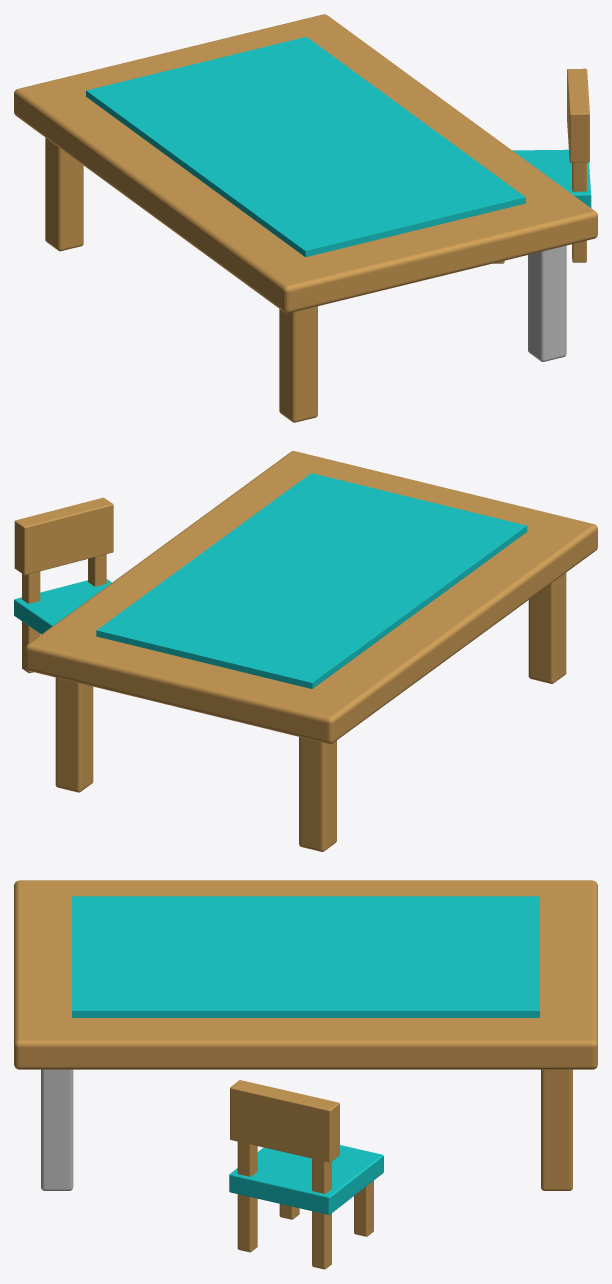
File: Desk&Chair.obj
3 views of the same model, one above another, from view 1: azimuth 30°, elevation 25°; view 2: azimuth 150°, elevation 25°; view 3: azimuth 270°, elevation 25° (orthographic). The views are drawn at different scales.
Parts seen in each view (by area): view 1: Cube, 立方体.001, 立方体, 立方体.003, Cube.002, Cube.001, Cube.004; view 2: Cube, Cube.002, 立方体.004, 立方体.003, 立方体.001, Cube.001, Cube.003, Cube.004; view 3: Cube, Cube.002, Cube.001, 立方体, 立方体.004, Cube.004, Cube.003, Cube.005.
Part boxes in pixels (left/top/right/bottom): Cube: left=14, top=14, right=597, bottom=313; 立方体.001: left=279, top=306, right=317, bottom=422; 立方体: left=528, top=245, right=566, bottom=361; 立方体.003: left=45, top=137, right=83, bottom=251; Cube.002: left=567, top=68, right=589, bottom=162; Cube.001: left=512, top=149, right=591, bottom=207; Cube.004: left=572, top=162, right=586, bottom=262; Cube: left=25, top=451, right=597, bottom=744; Cube.002: left=14, top=497, right=113, bottom=575; 立方体.004: left=55, top=677, right=93, bottom=792; 立方体.003: left=299, top=737, right=336, bottom=851; 立方体.001: left=528, top=573, right=566, bottom=683; Cube.001: left=14, top=579, right=111, bottom=634; Cube.003: left=22, top=571, right=40, bottom=673; Cube.004: left=88, top=554, right=106, bottom=586; Cube: left=14, top=880, right=597, bottom=1069; Cube.002: left=230, top=1080, right=339, bottom=1162; Cube.001: left=229, top=1145, right=383, bottom=1214; 立方体: left=41, top=1069, right=73, bottom=1190; 立方体.004: left=541, top=1069, right=572, bottom=1190; Cube.004: left=237, top=1141, right=257, bottom=1252; Cube.003: left=312, top=1158, right=331, bottom=1269; Cube.005: left=354, top=1180, right=373, bottom=1236.
Size of the model in its own units: 2.86 by 0.9504 by 3.02.
